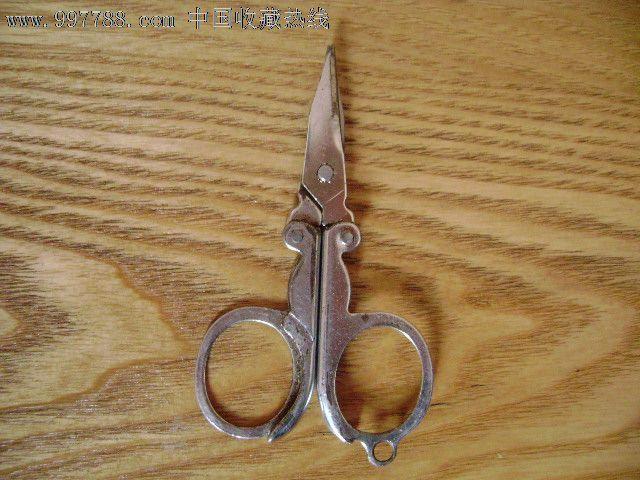scissor: (280, 26, 459, 467)
